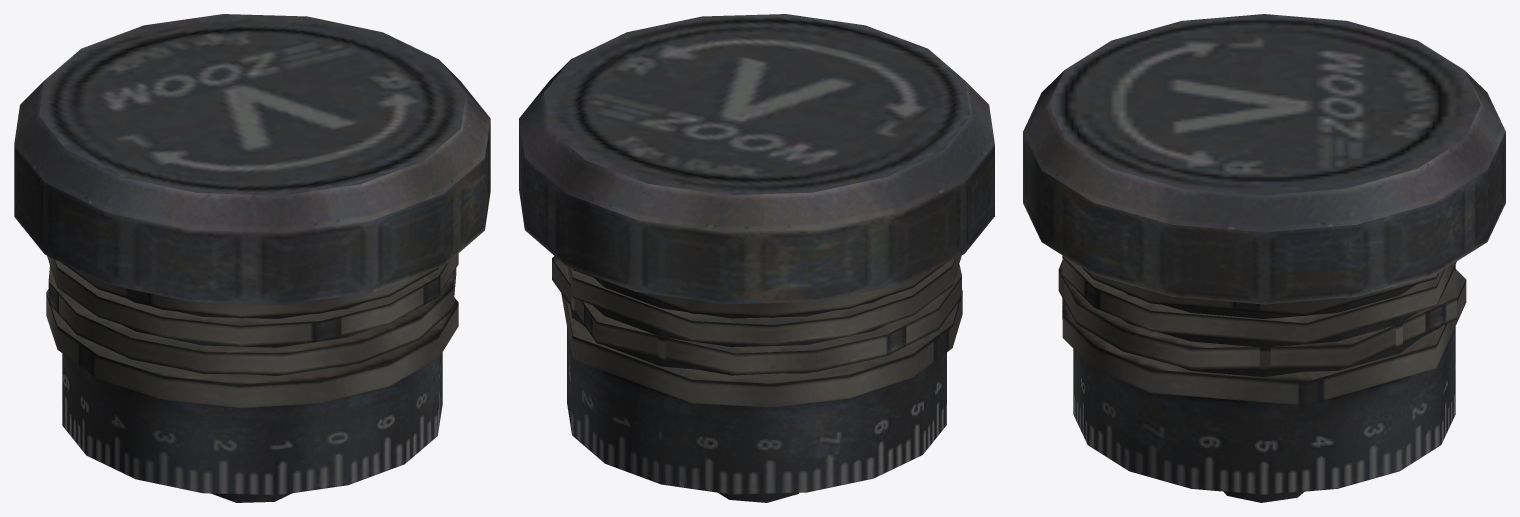
The model's file is t6_attach_optic_vzoom_xpr50_view_LOD0.obj.
3 views of the same model, side by side, from view 1: azimuth 30°, elevation 25°; view 2: azimuth 150°, elevation 25°; view 3: azimuth 270°, elevation 25° (orthographic).
Parts seen in each view (by area): view 1: mtl_t6_attach_optic_vzoom_xpr50; view 2: mtl_t6_attach_optic_vzoom_xpr50; view 3: mtl_t6_attach_optic_vzoom_xpr50.
Boxes of the visible parts, box(x1,y1,x2,y2) form: mtl_t6_attach_optic_vzoom_xpr50: box(14, 14, 490, 502); mtl_t6_attach_optic_vzoom_xpr50: box(519, 14, 994, 502); mtl_t6_attach_optic_vzoom_xpr50: box(1023, 14, 1505, 502).
Size of the model in its own units: 4.41 by 3.84 by 4.45.
